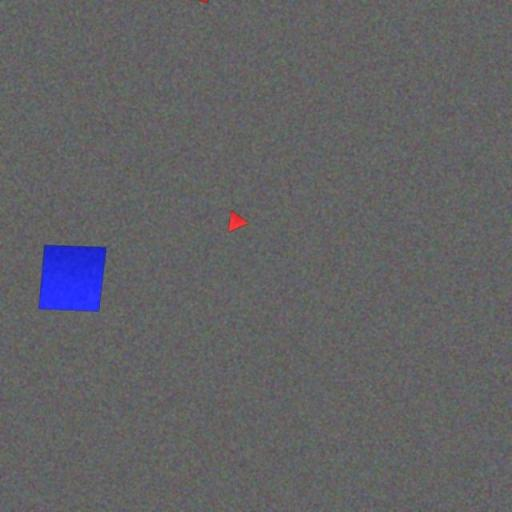BLUE_SQUARE: (38, 244, 108, 312)
